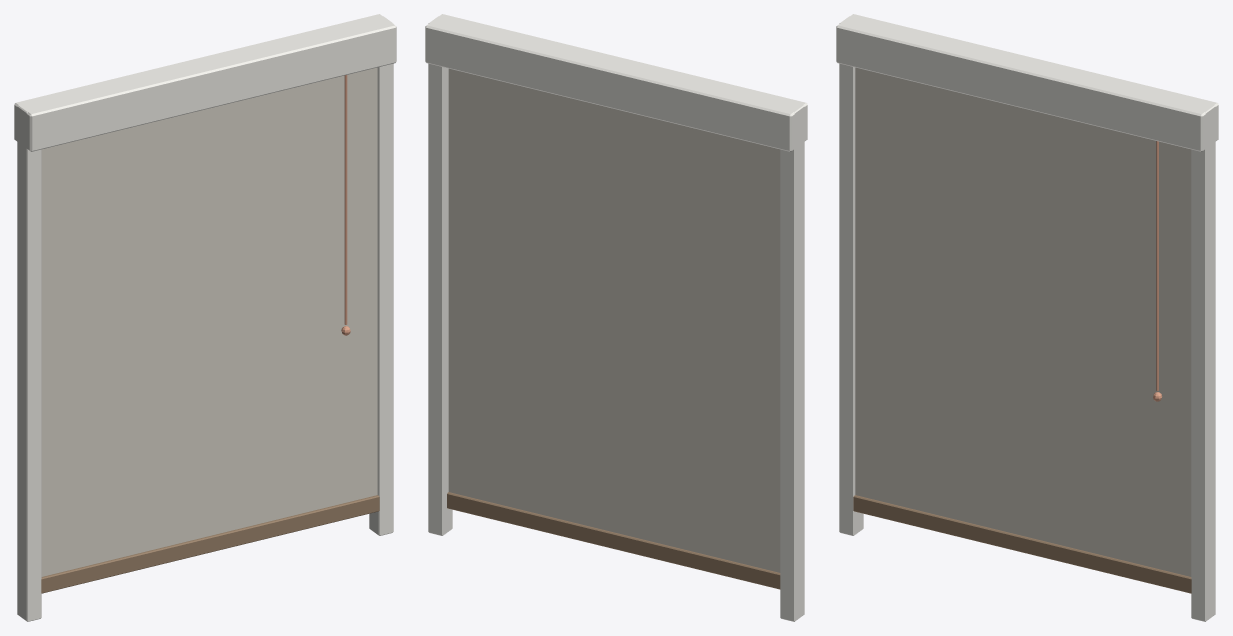
File: bedroom-and-living-room-furniture-roller-blind-82ce0665.glb
3 renders of one model, left to right at view 1: azimuth 30°, elevation 25°; view 2: azimuth 150°, elevation 25°; view 3: azimuth 330°, elevation 25°, orthographic.
Visible parts, largest first — view 1: roller-blind; view 2: roller-blind; view 3: roller-blind.
Boxes of the visible parts, x1,y1,x2,y2 form: roller-blind: [14, 14, 396, 621]; roller-blind: [425, 14, 807, 621]; roller-blind: [836, 14, 1218, 621].
Size of the model in its own units: 1.22 by 1.62 by 0.1001.
